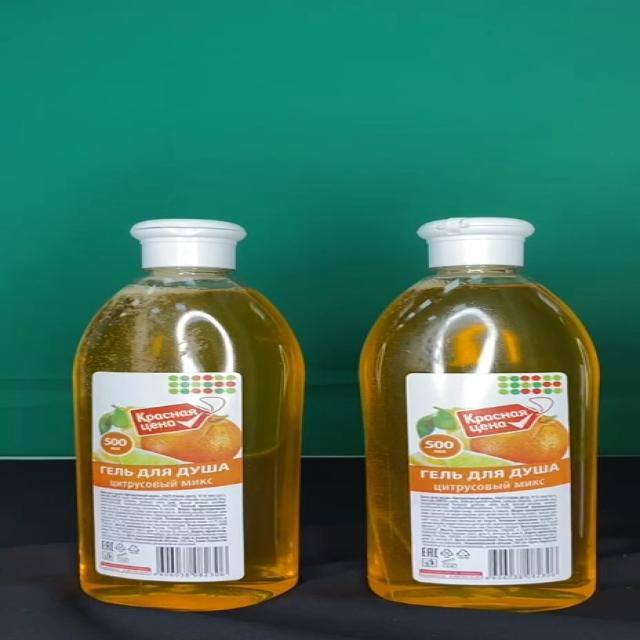Bottle: (360, 218, 600, 611), (72, 218, 307, 612)
Cap: (129, 218, 249, 269), (418, 218, 535, 266)
